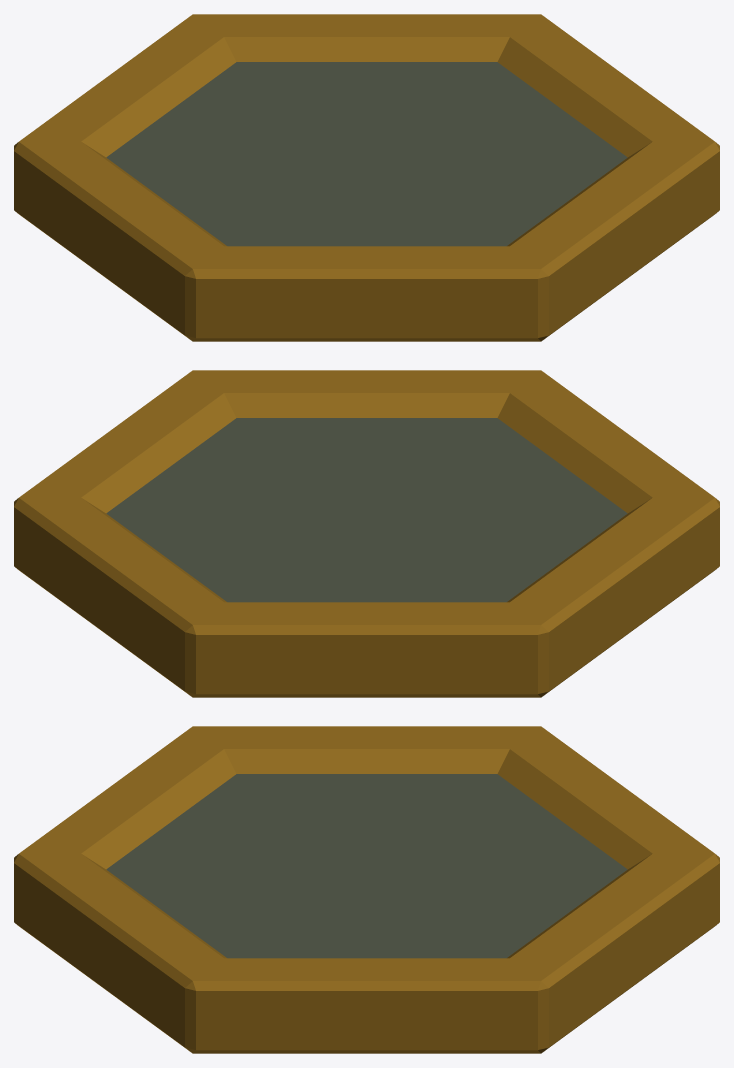
Rendered from Tile_05.fbx.
3 renders of one model, top to bottom at view 1: azimuth 30°, elevation 25°; view 2: azimuth 150°, elevation 25°; view 3: azimuth 270°, elevation 25°, orthographic.
Parts seen in each view (by area): view 1: Cylinder.004; view 2: Cylinder.004; view 3: Cylinder.004.
Part boxes in pixels (left/top/right/bottom): Cylinder.004: left=14, top=14, right=719, bottom=341; Cylinder.004: left=14, top=370, right=719, bottom=697; Cylinder.004: left=14, top=726, right=719, bottom=1053.
Bounding box in the file's own units: 329 × 42.72 × 376.
